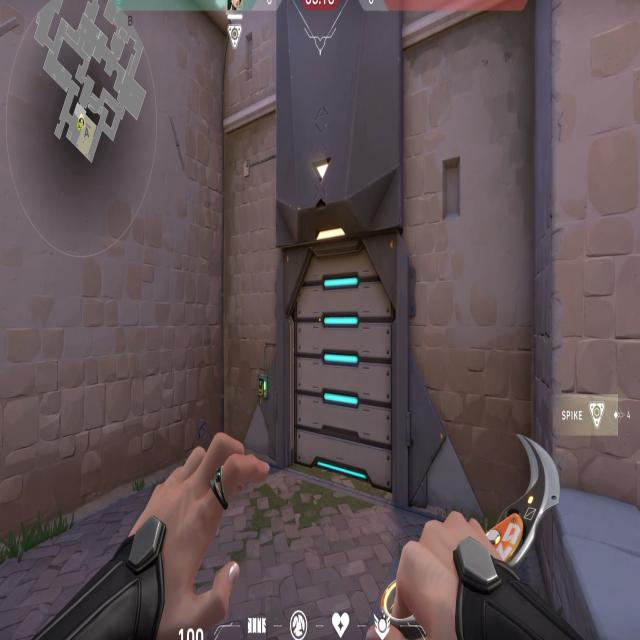A_Door: (269, 214, 411, 514)
